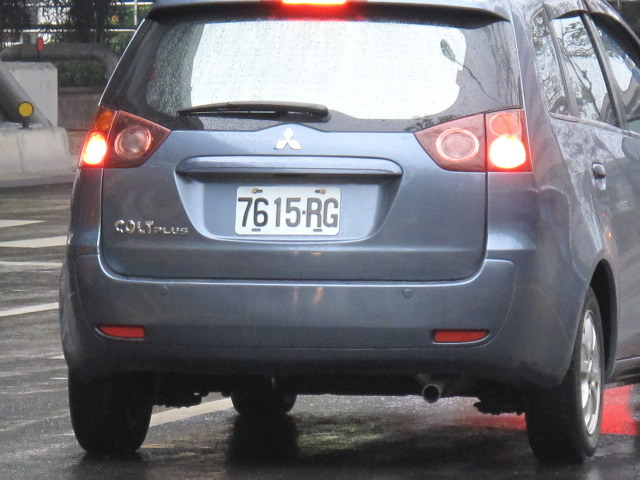plate: (232, 180, 343, 241)
